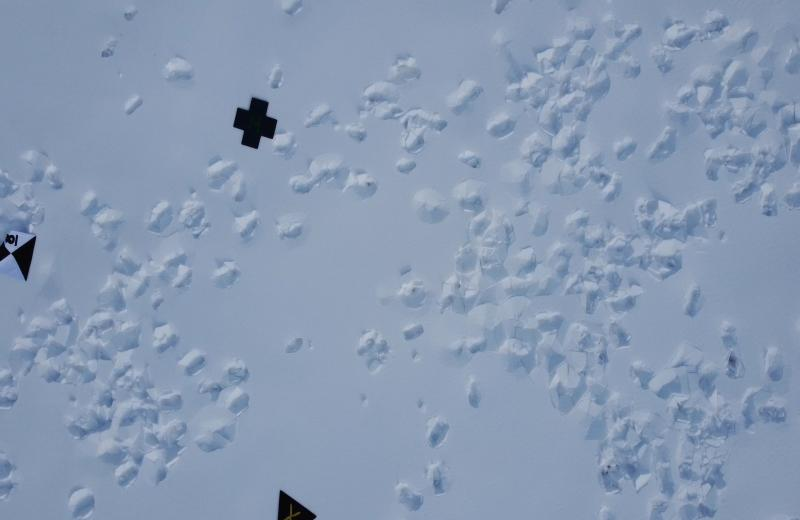Cross: (233, 96, 277, 151)
Triangle: (276, 488, 318, 520)
